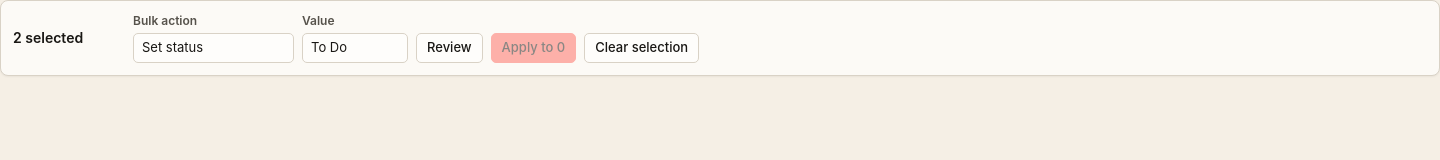
Test: BulkActionBar › makes permanent deletion explicit and warns that it cannot be restored
This screenshot has width=1440, height=160.
Select "Delete permanently" in the dropdown labelled "Bulk action" at (214, 48), box [133,33,294,63]
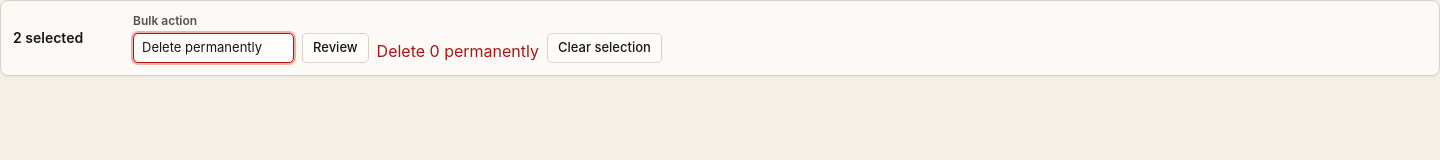
Click the button "Review" at (335, 48), box [302,33,369,63]
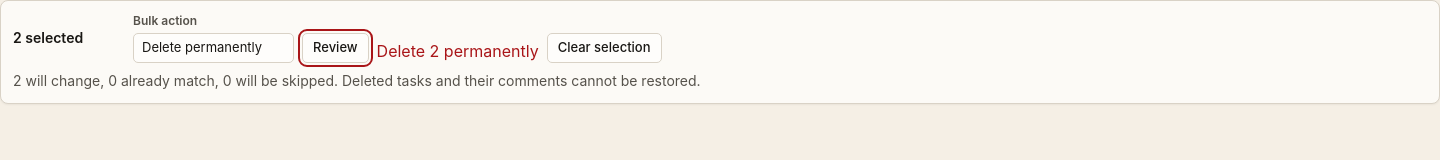
Expected: the button "Delete 2 permanently" is enabled, [377,39,539,63]
Expected: the text "cannot be restored" is shown, [338,72,701,89]
